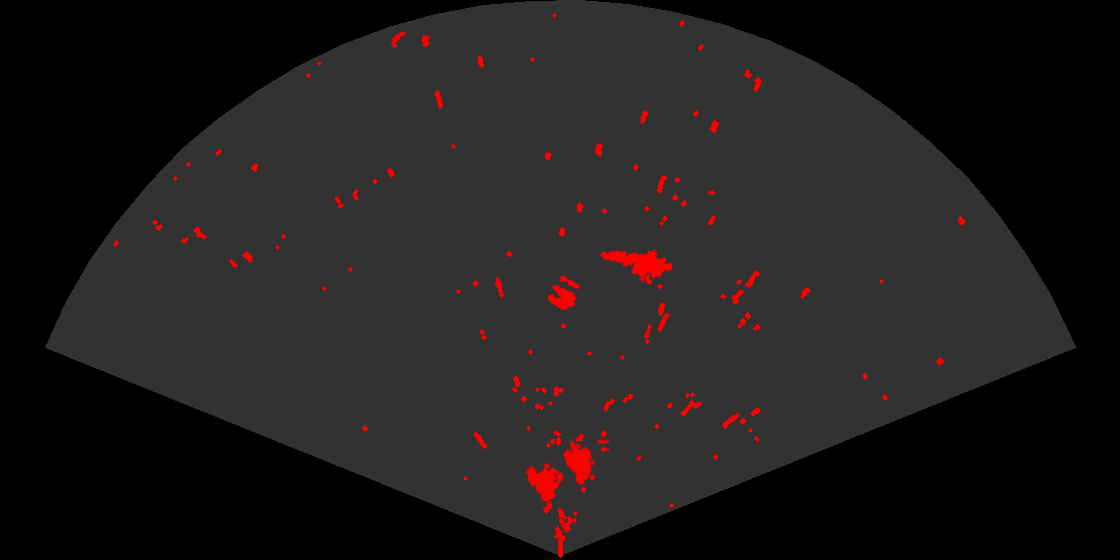ball: (546, 274, 582, 312)
cage: (523, 439, 609, 504)
frogman: (598, 249, 672, 283)
